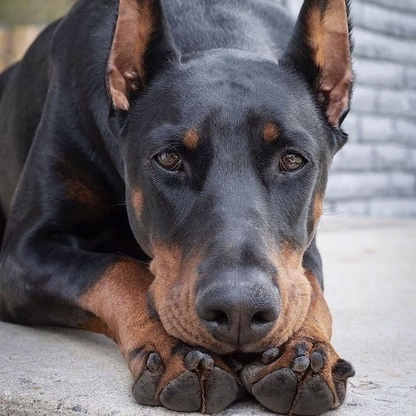doberman: (102, 3, 365, 413)
